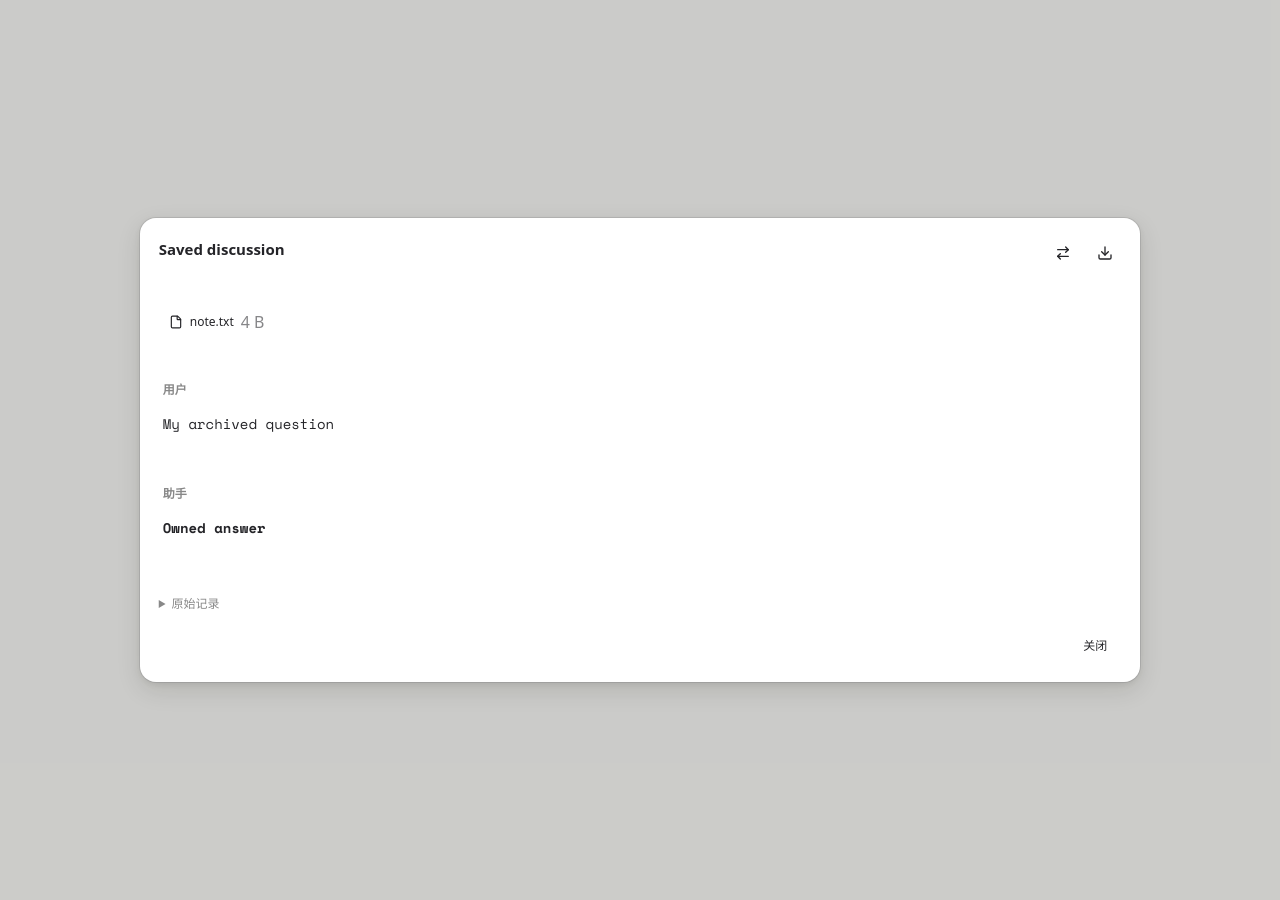
archive attachment uses authenticated blob loader and existing safe file preview
Click the button "note.txt 4 B" at (217, 322), box [159,303,274,341]
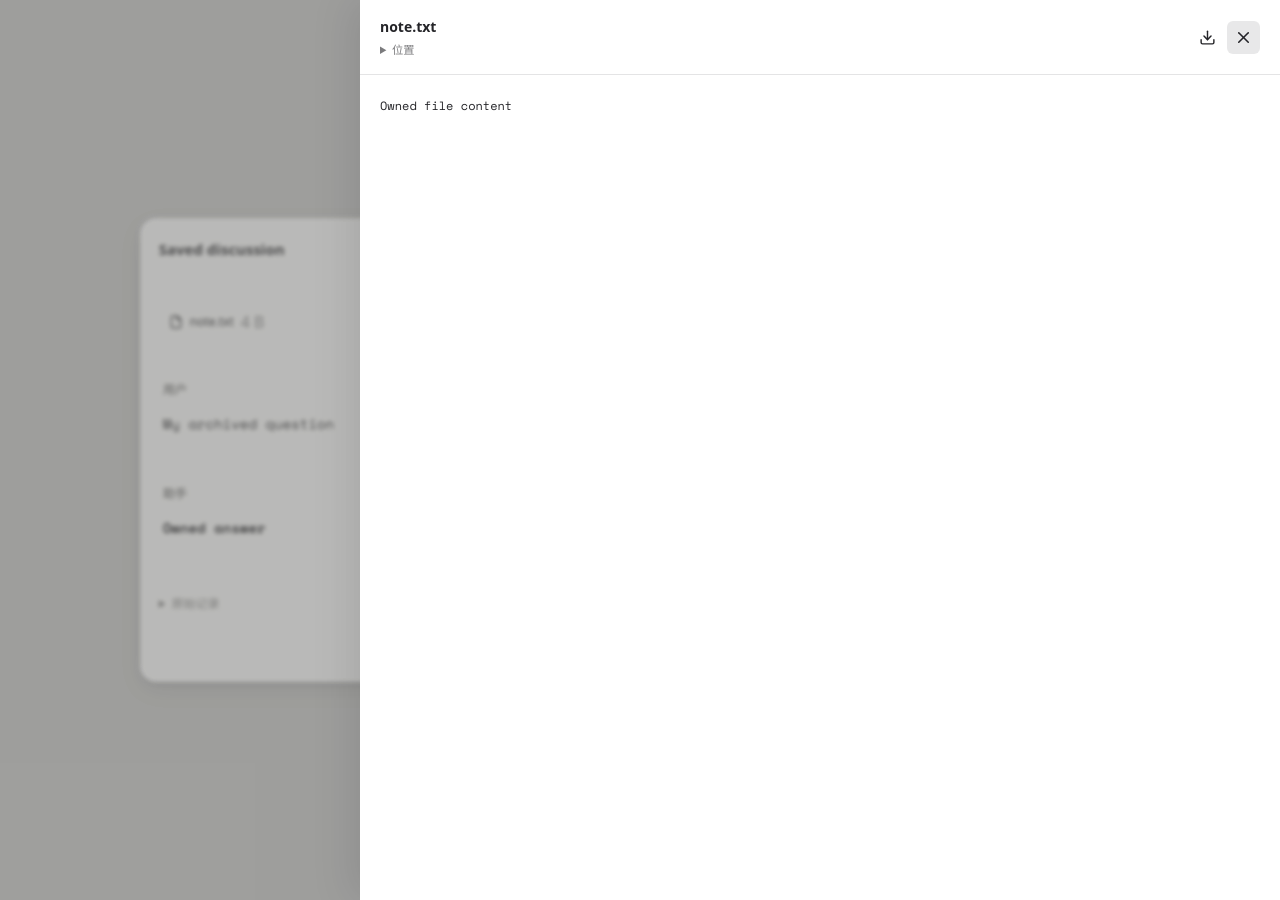
expect the text "Owned file content" is shown: met, box [380,97,512,114]
